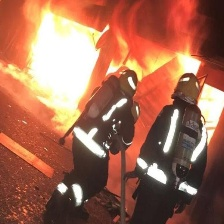fire: (28, 7, 100, 109), (180, 54, 224, 137)
smoke: (113, 2, 197, 52)
